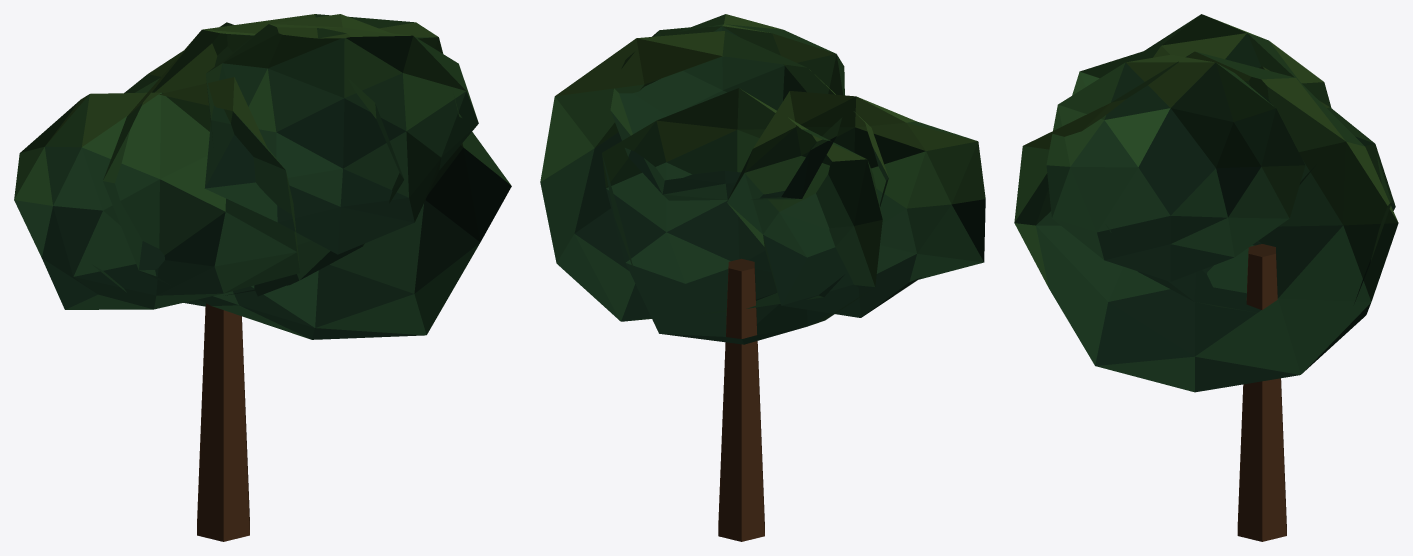
Rendered from broadleaf_0.gltf.
3 renders of one model, left to right at view 1: azimuth 30°, elevation 25°; view 2: azimuth 150°, elevation 25°; view 3: azimuth 270°, elevation 25°, orthographic. The views are drawn at different scales.
Size of the model in its own units: 7.32 by 8.67 by 6.1.
